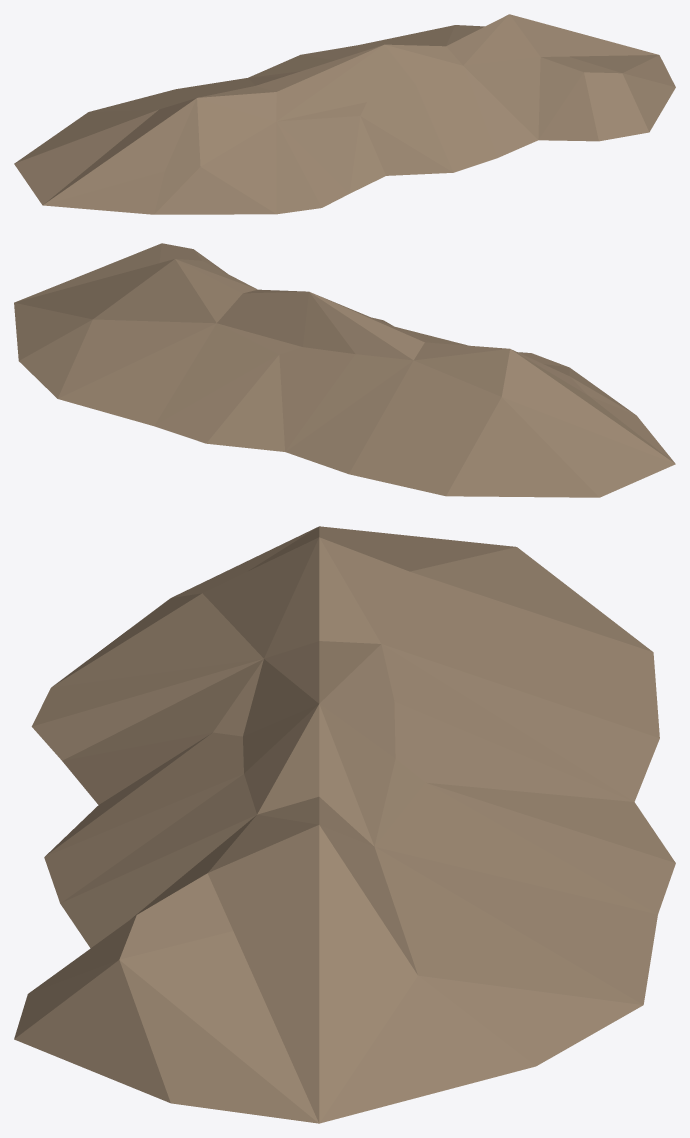
The model's file is SM_Env_SandEdge_05.fbx.
3 views of the same model, one above another, from view 1: azimuth 30°, elevation 25°; view 2: azimuth 150°, elevation 25°; view 3: azimuth 270°, elevation 25° (orthographic). The views are drawn at different scales.
Visible parts, largest first — view 1: SM_Env_SandEdge_05; view 2: SM_Env_SandEdge_05; view 3: SM_Env_SandEdge_05.
Part boxes in pixels (x1,y1,x2,y2): SM_Env_SandEdge_05: [14, 14, 675, 214]; SM_Env_SandEdge_05: [14, 243, 675, 497]; SM_Env_SandEdge_05: [14, 526, 675, 1123].
Size of the model in its own units: 811 by 97.23 by 380.
